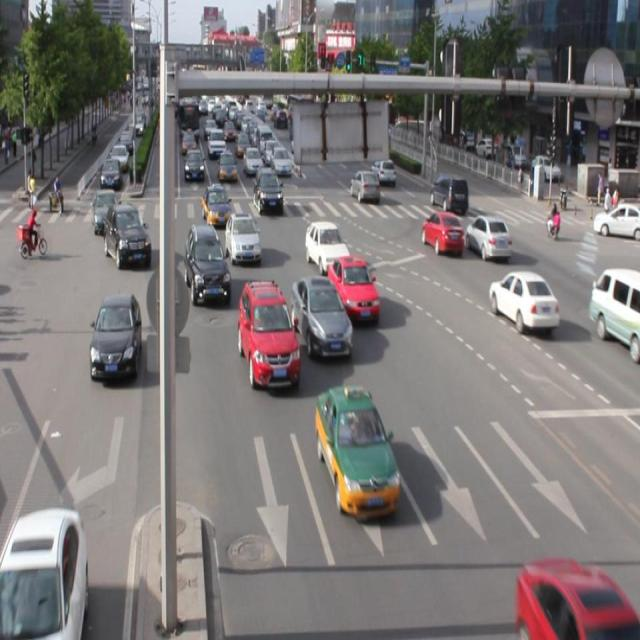car: (1, 508, 89, 640), (316, 384, 400, 518), (515, 558, 640, 640), (238, 278, 300, 390), (292, 274, 354, 360), (89, 293, 142, 383), (488, 269, 559, 330), (328, 254, 380, 326), (186, 224, 231, 306), (104, 204, 152, 270), (305, 219, 350, 272), (463, 213, 512, 260), (225, 210, 262, 264), (421, 211, 464, 257)
truck: (587, 267, 640, 353)
